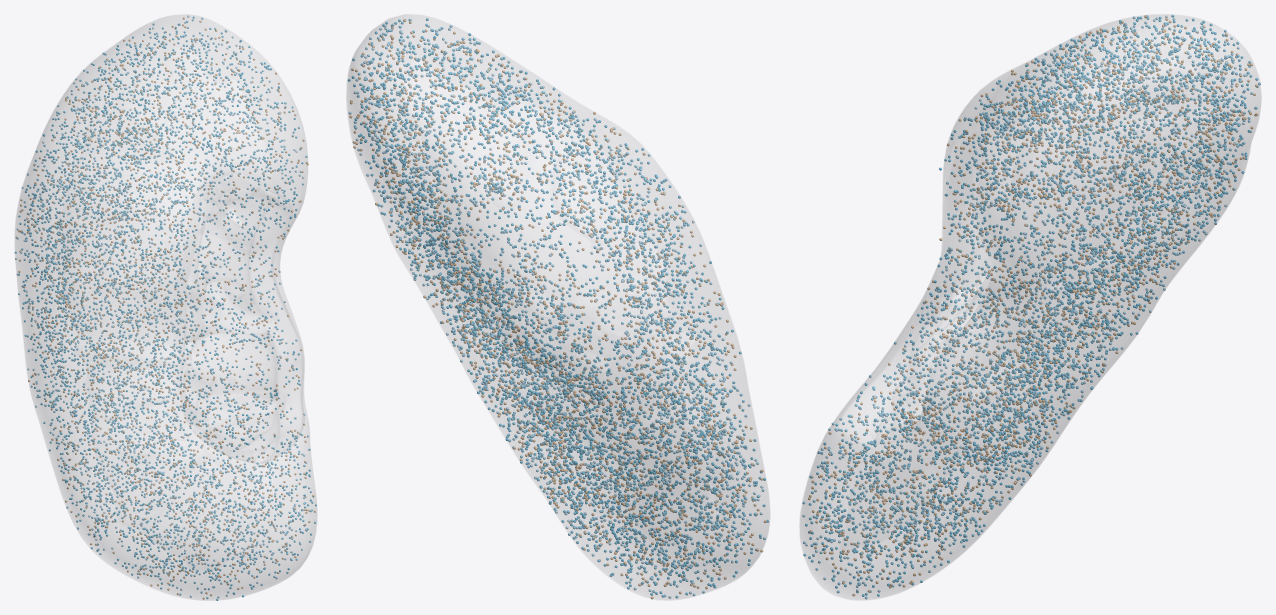
File: 3d-vh-m-kidney-r-UBERON_0004539-all-as-azimuth-sphere-hra-pop.glb
3 views of the same model, side by side, from view 1: azimuth 30°, elevation 25°; view 2: azimuth 150°, elevation 25°; view 3: azimuth 270°, elevation 25° (orthographic). The views are drawn at different scales.
Visible parts, largest first — view 1: VH_M_kidney_capsule_R, VH_M_outer_cortex_of_kidney_R, VH_M_hilum_of_kidney_R, VH_M_renal_column_R, VH_M_renal_pyramid_f, VH_M_renal_pyramid_h, VH_M_renal_papilla_R_g; view 2: VH_M_kidney_capsule_R, VH_M_outer_cortex_of_kidney_R; view 3: VH_M_kidney_capsule_R, VH_M_outer_cortex_of_kidney_R, VH_M_hilum_of_kidney_R, VH_M_renal_pyramid_h, VH_M_renal_pyramid_f.
Boxes of the visible parts, bbox=[...] form: VH_M_kidney_capsule_R: bbox=[14, 14, 316, 600]; VH_M_outer_cortex_of_kidney_R: bbox=[17, 16, 311, 599]; VH_M_hilum_of_kidney_R: bbox=[181, 174, 301, 462]; VH_M_renal_column_R: bbox=[187, 179, 276, 462]; VH_M_renal_pyramid_f: bbox=[186, 269, 275, 341]; VH_M_renal_pyramid_h: bbox=[182, 383, 280, 452]; VH_M_renal_papilla_R_g: bbox=[187, 383, 211, 414]; VH_M_kidney_capsule_R: bbox=[346, 14, 770, 600]; VH_M_outer_cortex_of_kidney_R: bbox=[347, 16, 769, 598]; VH_M_kidney_capsule_R: bbox=[799, 14, 1261, 600]; VH_M_outer_cortex_of_kidney_R: bbox=[800, 15, 1260, 598]; VH_M_hilum_of_kidney_R: bbox=[838, 129, 990, 444]; VH_M_renal_pyramid_h: bbox=[891, 371, 931, 436]; VH_M_renal_pyramid_f: bbox=[939, 286, 986, 340].
Bounding box in the file's own units: 0.0655 × 0.1125 × 0.0764.
